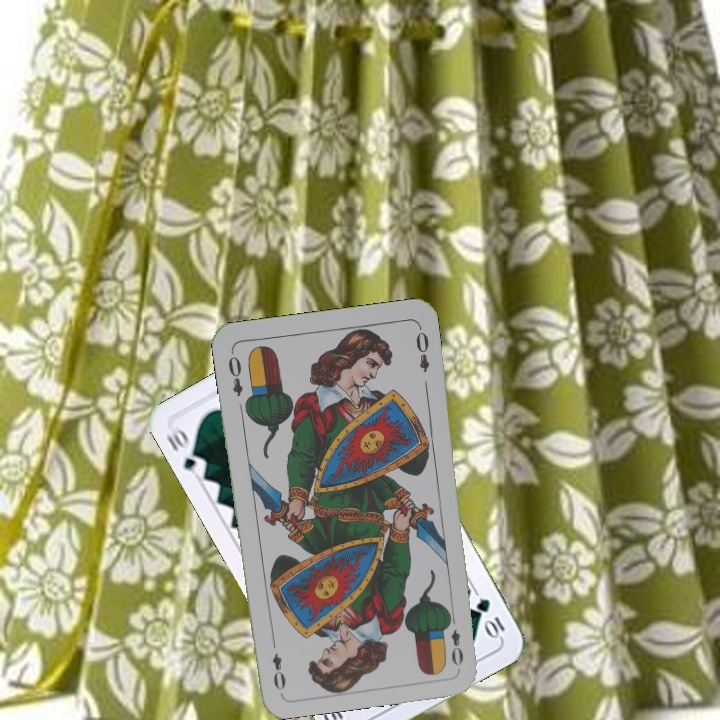EO: (443, 610, 466, 669), (224, 347, 245, 399)
G10: (162, 424, 210, 480), (472, 594, 508, 641)
